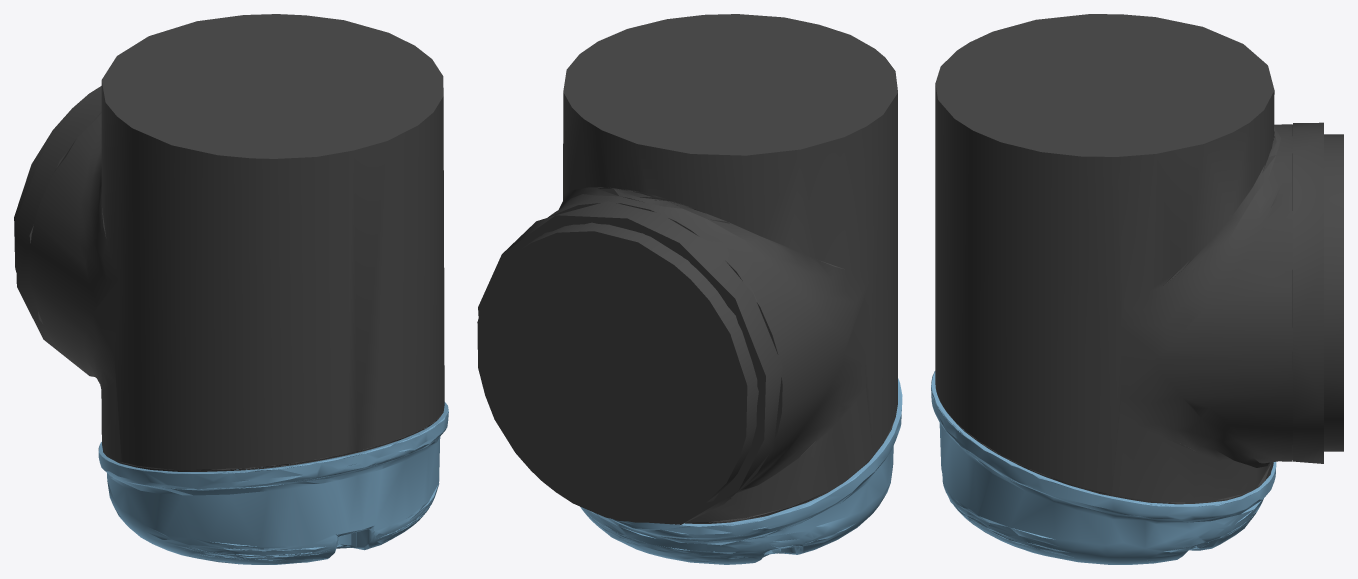
The model's file is wrist2.obj.
The picture shows the model from 3 angles, left to right: view 1: azimuth 30°, elevation 25°; view 2: azimuth 150°, elevation 25°; view 3: azimuth 270°, elevation 25°; orthographic projection. The views are drawn at different scales.
Parts seen in each view (by area): view 1: Part__Feature029-mesh, Part__Feature031-mesh, Part__Feature030-mesh; view 2: Part__Feature029-mesh, Part__Feature031-mesh, Part__Feature030-mesh; view 3: Part__Feature029-mesh, Part__Feature031-mesh, Part__Feature030-mesh.
Boxes of the visible parts, x1,y1,x2,y2 form: Part__Feature029-mesh: (14, 14, 444, 471); Part__Feature031-mesh: (98, 402, 448, 564); Part__Feature030-mesh: (15, 88, 101, 376); Part__Feature029-mesh: (477, 14, 897, 523); Part__Feature031-mesh: (580, 378, 902, 564); Part__Feature030-mesh: (478, 201, 782, 524); Part__Feature029-mesh: (935, 14, 1343, 504); Part__Feature031-mesh: (931, 371, 1276, 564); Part__Feature030-mesh: (1293, 122, 1323, 463).
Bounding box in the file's own units: 0.0644 × 0.0887 × 0.0768.
